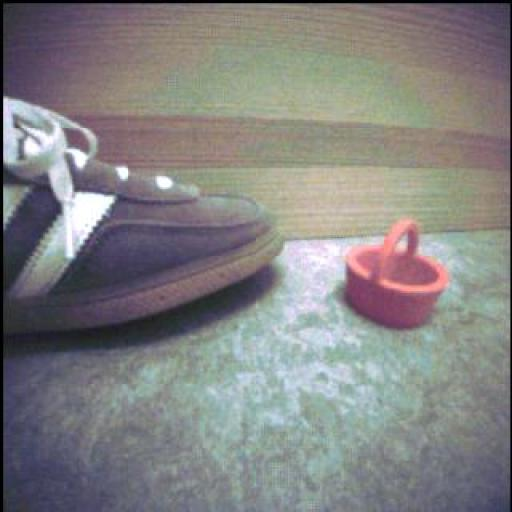Bucket: (347, 220, 451, 329)
